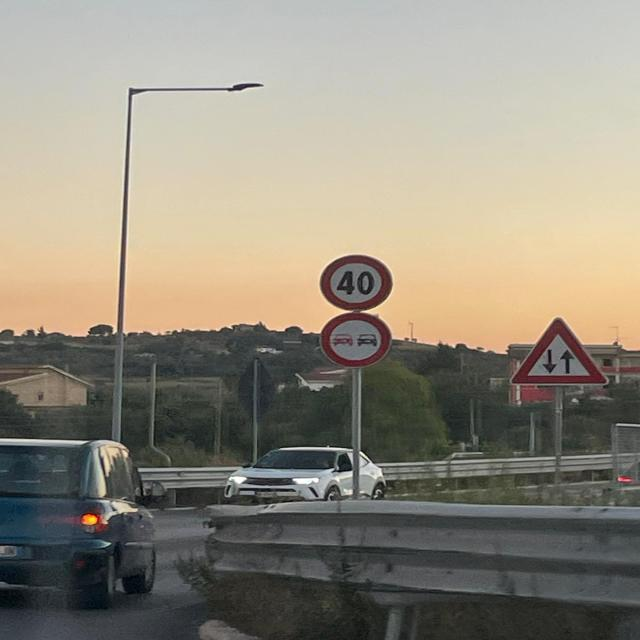forb_overtake: (320, 314, 394, 368)
forb_speed_over_40: (318, 253, 394, 313)
